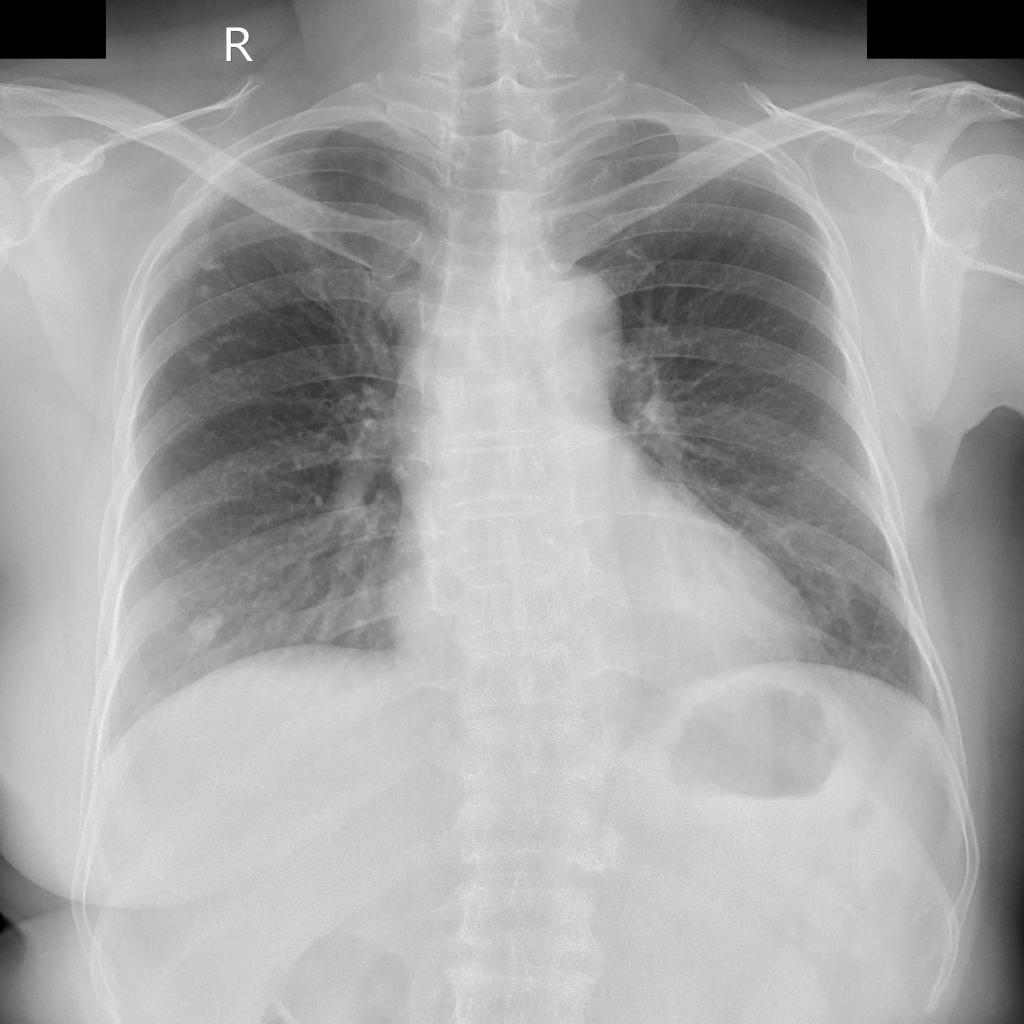Nodule: (187, 608, 223, 664)
